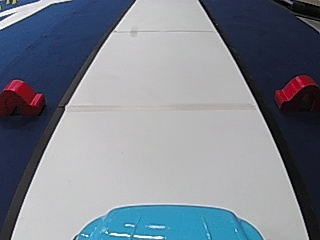bridge: (0, 78, 48, 119), (272, 72, 317, 113)
